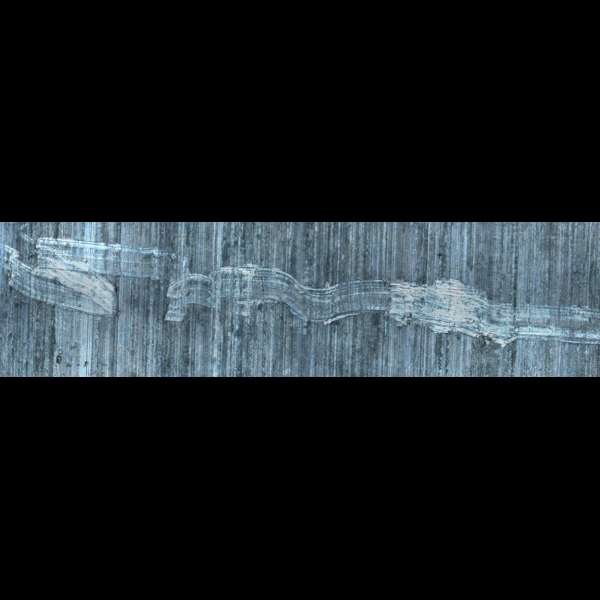d: (3, 231, 600, 355)
